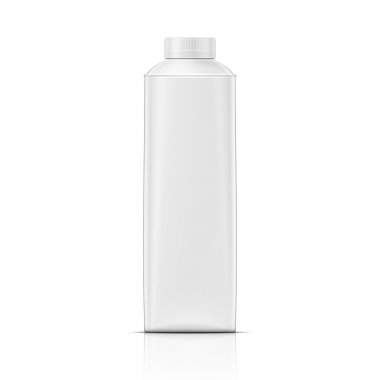carton: (128, 16, 259, 355)
